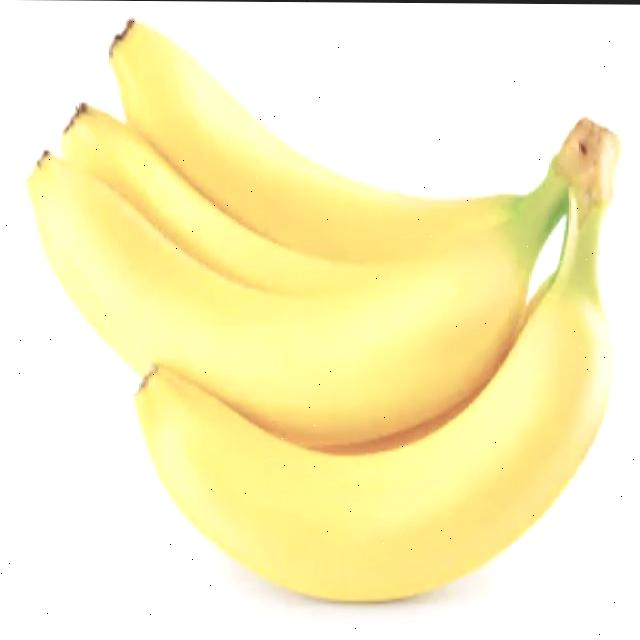banana: (39, 64, 616, 625)
